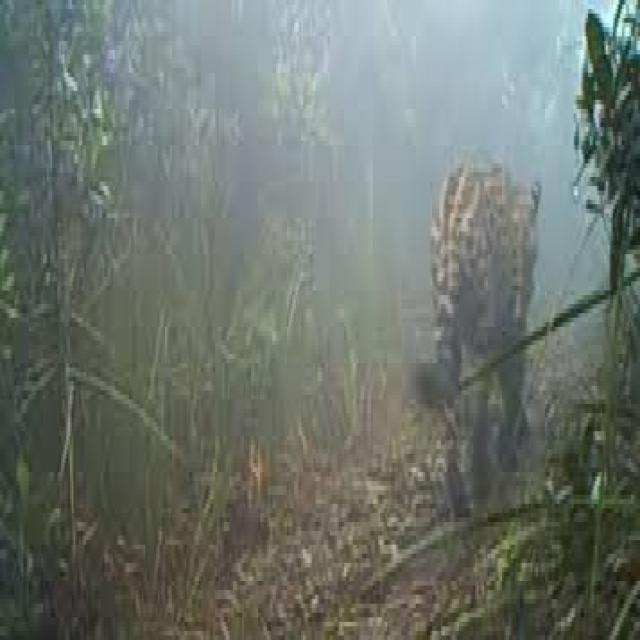Jaguar: (411, 145, 545, 490)
